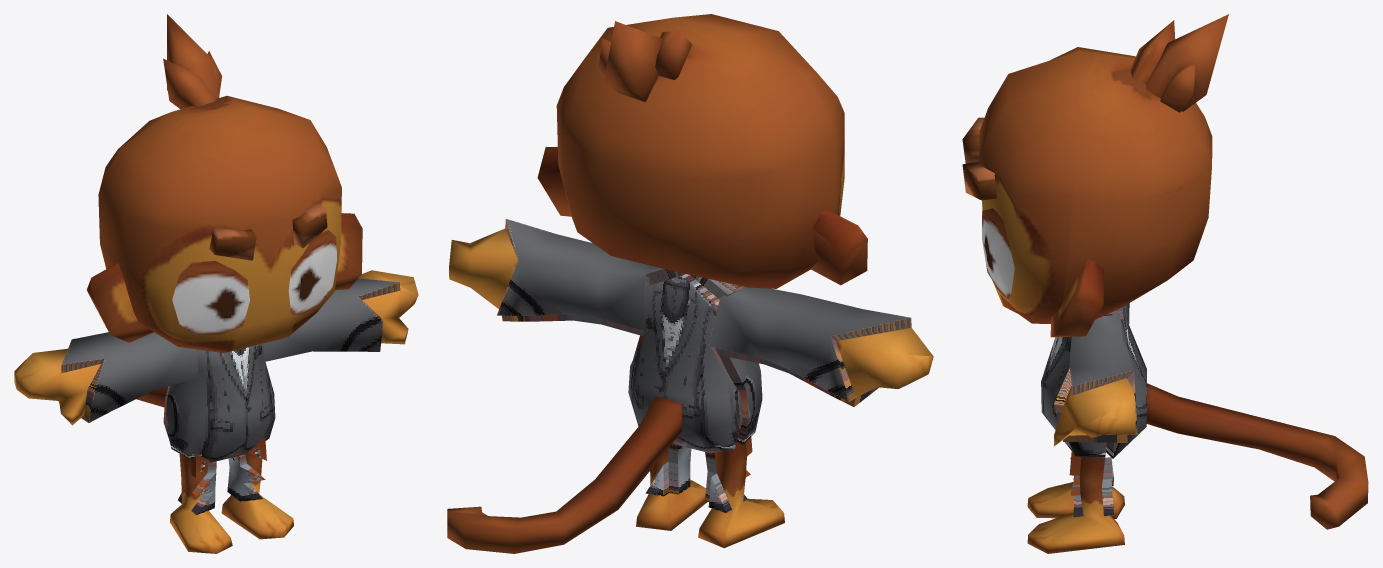
File: blue.glb
The picture shows the model from 3 angles, left to right: view 1: azimuth 30°, elevation 25°; view 2: azimuth 150°, elevation 25°; view 3: azimuth 270°, elevation 25°; orthographic projection. The views are drawn at different scales.
Parts seen in each view (by area): view 1: FlatSkin_DartMonkey_DartMonkey; view 2: FlatSkin_DartMonkey_DartMonkey; view 3: FlatSkin_DartMonkey_DartMonkey.
Boxes of the visible parts, bbox=[...] form: FlatSkin_DartMonkey_DartMonkey: bbox=[14, 14, 418, 553]; FlatSkin_DartMonkey_DartMonkey: bbox=[447, 14, 933, 553]; FlatSkin_DartMonkey_DartMonkey: bbox=[962, 14, 1368, 553].
Size of the model in its own units: 0.8963 by 1 by 0.7141.
Materials: 3 (3 with a texture image).
